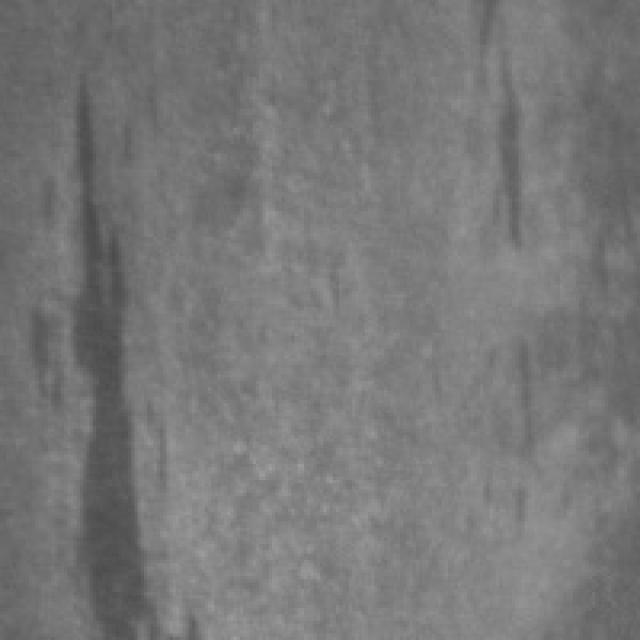inclusion: (32, 61, 173, 630), (461, 0, 547, 259), (489, 342, 556, 461)
